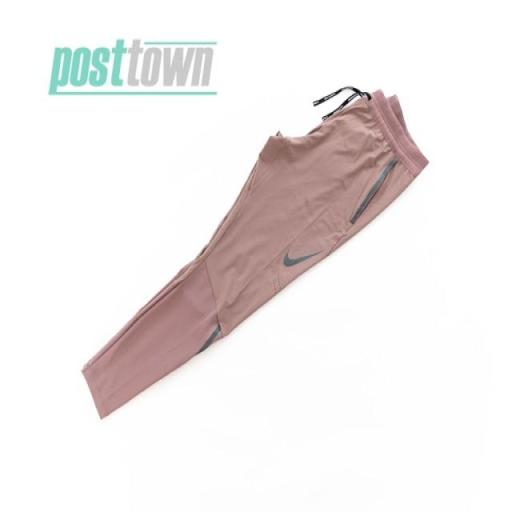Nike: (277, 242, 327, 267)
